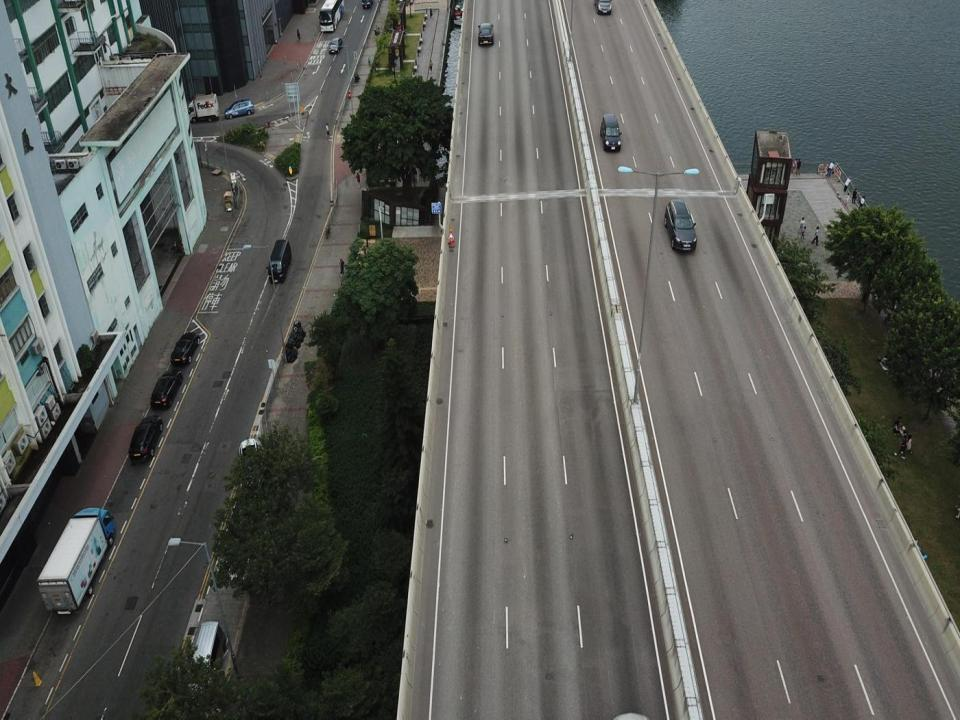bus: (318, 0, 344, 33)
car: (663, 199, 698, 252), (128, 415, 163, 465), (236, 438, 266, 494), (149, 369, 184, 410), (171, 331, 201, 365), (600, 113, 622, 153), (224, 98, 255, 118), (477, 22, 495, 47), (594, 0, 612, 16), (329, 36, 344, 54)
truck: (36, 506, 118, 616), (186, 93, 220, 124)
van: (187, 620, 227, 694), (265, 240, 293, 284)
